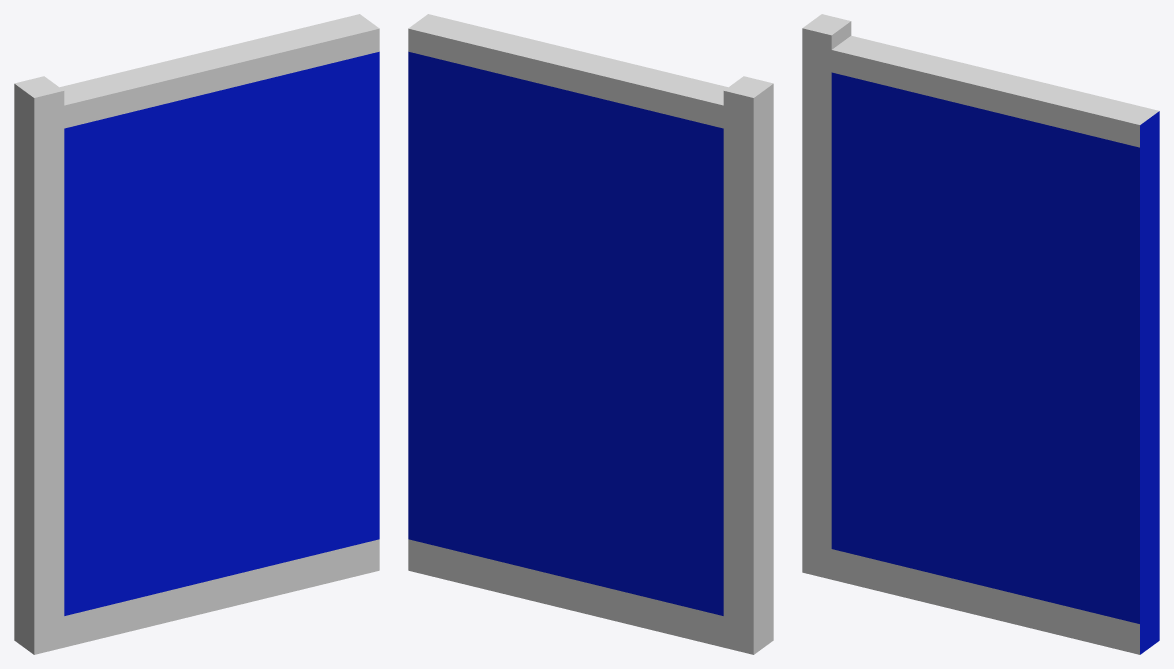
Rendered from CubicleHalf.fbx.
3 views of the same model, side by side, from view 1: azimuth 30°, elevation 25°; view 2: azimuth 150°, elevation 25°; view 3: azimuth 330°, elevation 25° (orthographic). The views are drawn at different scales.
Parts seen in each view (by area): view 1: CubicleHalf; view 2: CubicleHalf; view 3: CubicleHalf.
Boxes of the visible parts, x1,y1,x2,y2 form: CubicleHalf: (14, 14, 379, 654); CubicleHalf: (408, 14, 773, 654); CubicleHalf: (802, 14, 1159, 654).
Bounding box in the file's own units: 100 × 154 × 10.
